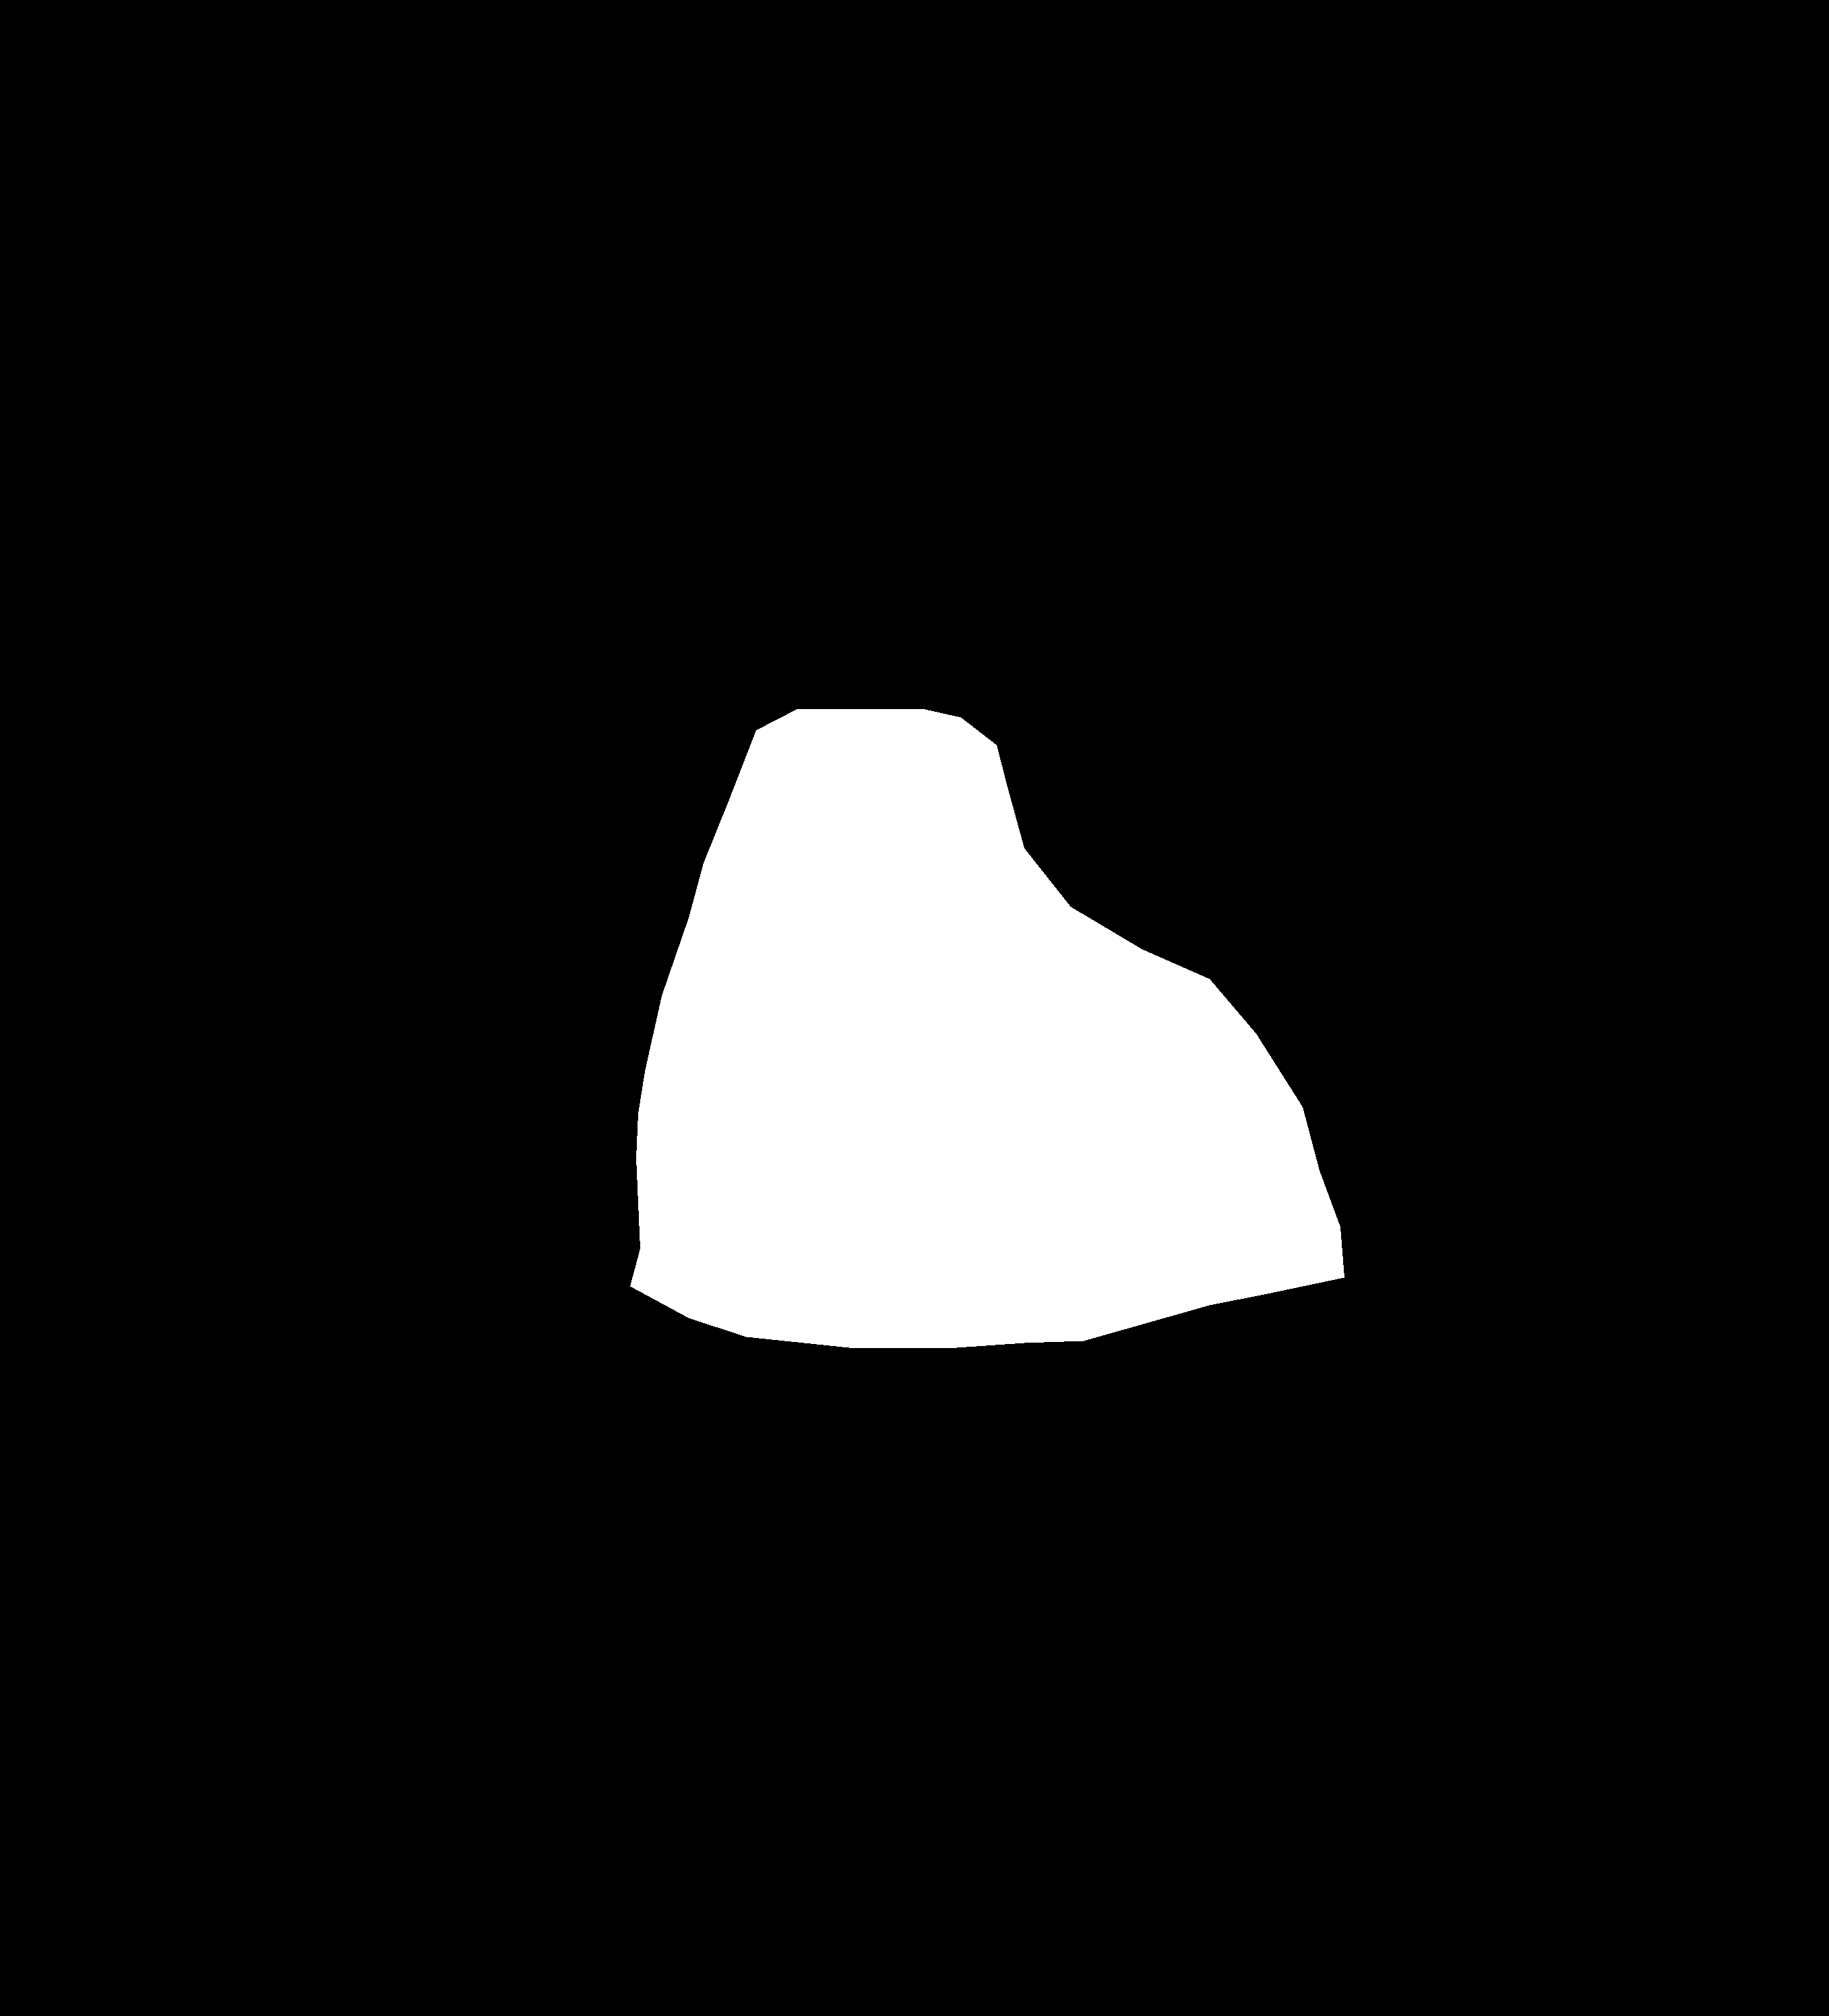heart: (630, 709, 1345, 1347)
left_lung: (75, 148, 792, 1379)
right_lung: (909, 212, 1478, 1377)
